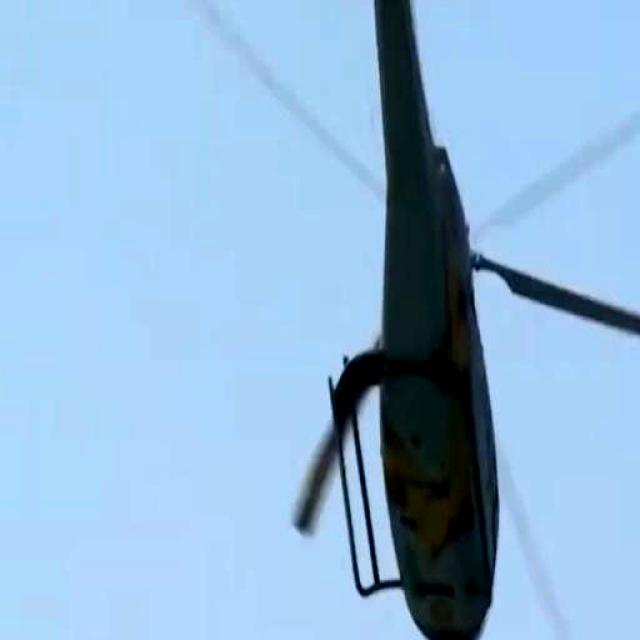drone: (240, 0, 561, 640)
